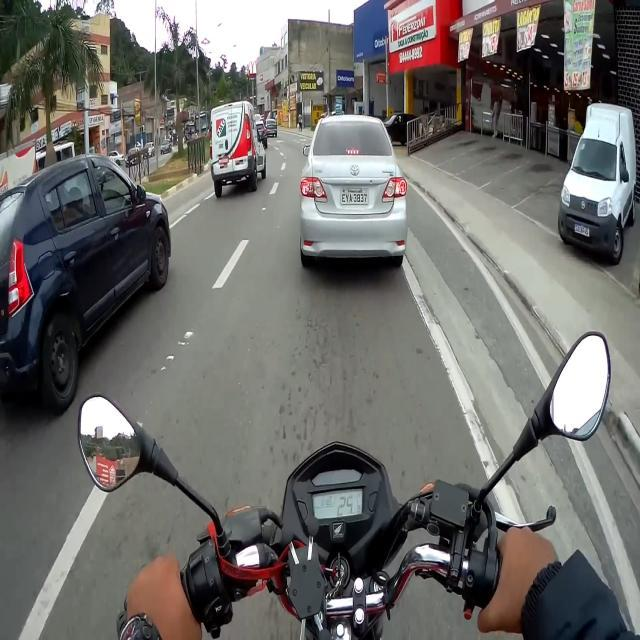Placa_mercosul_carro: (341, 188, 369, 205)
